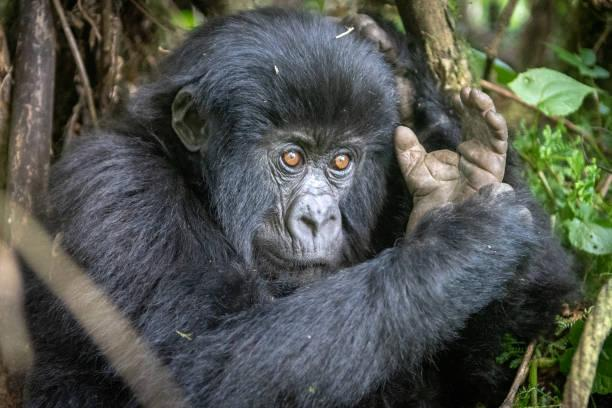goriile_montagne: (43, 8, 576, 408)
